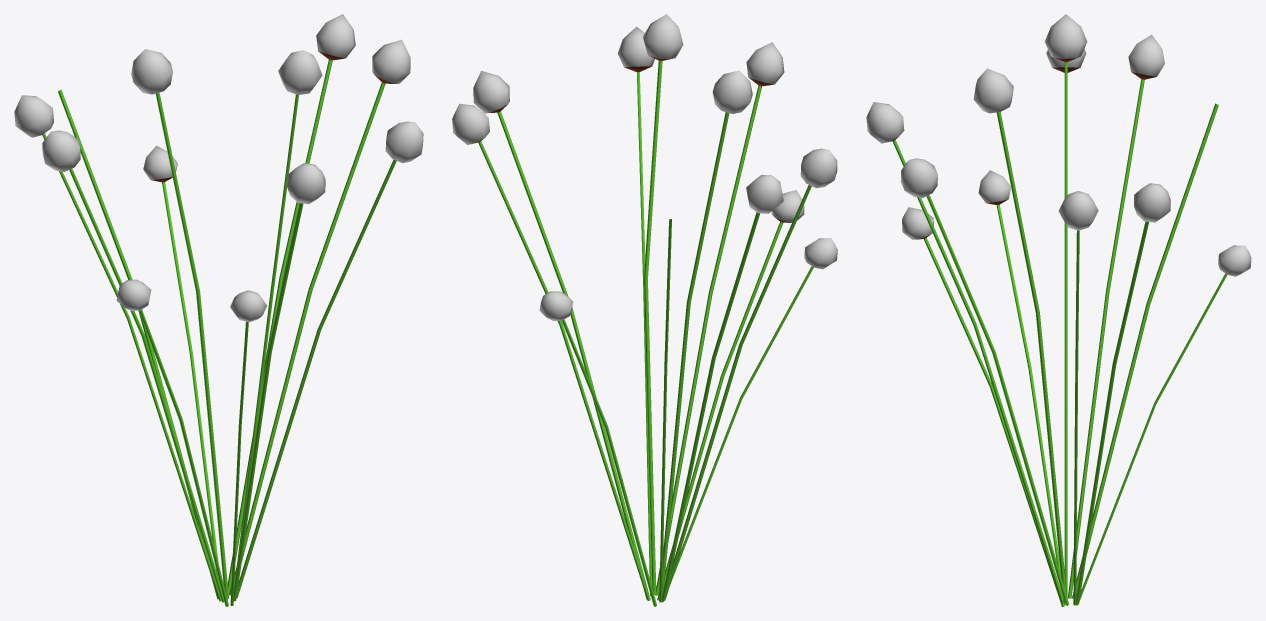
File: swamp_sedge_01.fbx
The picture shows the model from 3 angles, left to right: view 1: azimuth 30°, elevation 25°; view 2: azimuth 150°, elevation 25°; view 3: azimuth 270°, elevation 25°; orthographic projection. The views are drawn at different scales.
Visible parts, largest first — view 1: Eriophorum_flower; view 2: Eriophorum_flower; view 3: Eriophorum_flower.
Part boxes in pixels (x1=…): Eriophorum_flower: x1=14, y1=14, x2=423, y2=606; Eriophorum_flower: x1=452, y1=14, x2=837, y2=606; Eriophorum_flower: x1=866, y1=14, x2=1251, y2=606.
Bounding box in the file's own units: 0.6235 × 0.927 × 0.5851.
